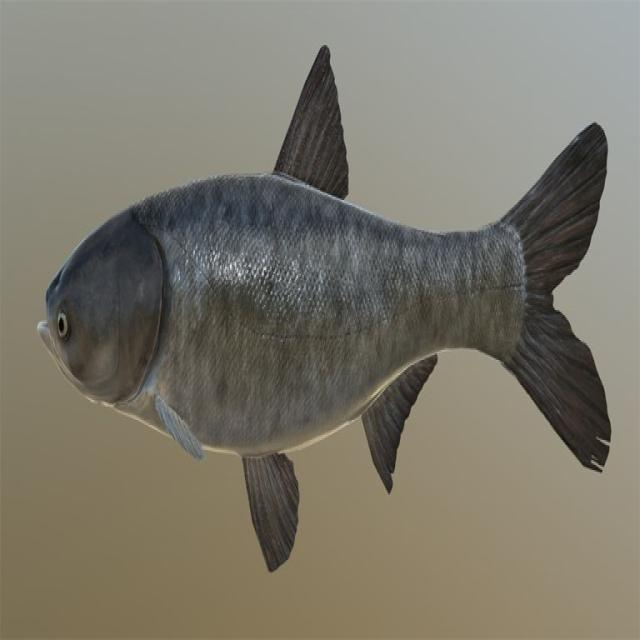Big-Head-Carp: (13, 34, 627, 610)
